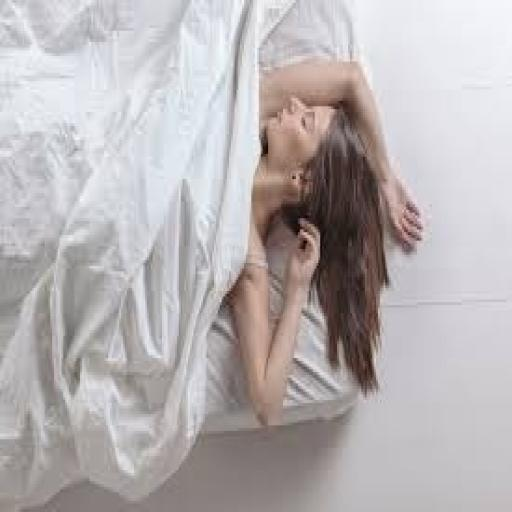sleeping: (0, 0, 424, 503)
